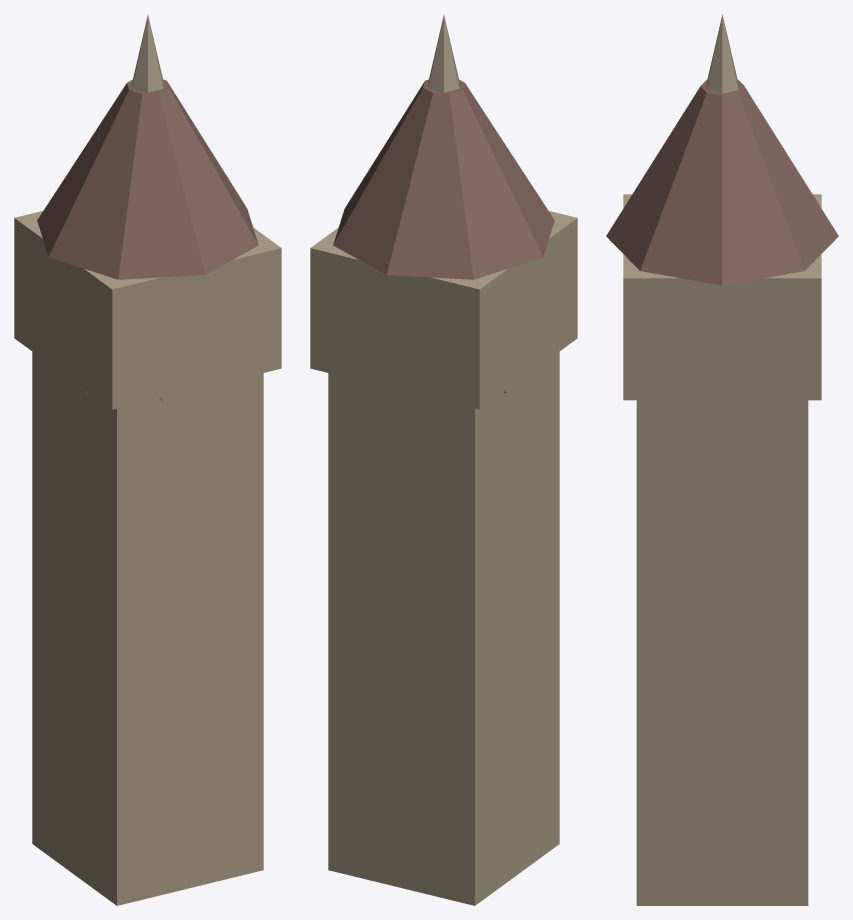
The picture shows the model from 3 angles, left to right: view 1: azimuth 30°, elevation 25°; view 2: azimuth 150°, elevation 25°; view 3: azimuth 270°, elevation 25°; orthographic projection.
Parts seen in each view (by area): view 1: part0, part1, part6, part7, part5; view 2: part0, part1, part6, part7, part4; view 3: part0, part6, part1, part7, part2.
Boxes of the visible parts, x1,y1,x2,y2 form: part0: (32, 352, 263, 905); part1: (14, 211, 281, 409); part6: (37, 79, 258, 279); part7: (132, 15, 163, 92); part5: (159, 382, 227, 408); part0: (328, 352, 559, 905); part1: (310, 211, 577, 409); part6: (333, 79, 554, 279); part7: (428, 15, 459, 92); part4: (364, 382, 432, 408); part0: (636, 400, 808, 905); part6: (606, 80, 838, 285); part1: (623, 194, 821, 400); part7: (706, 14, 738, 93); part2: (684, 400, 760, 419).
Size of the model in its own units: 1.9 by 7.7 by 1.9.
